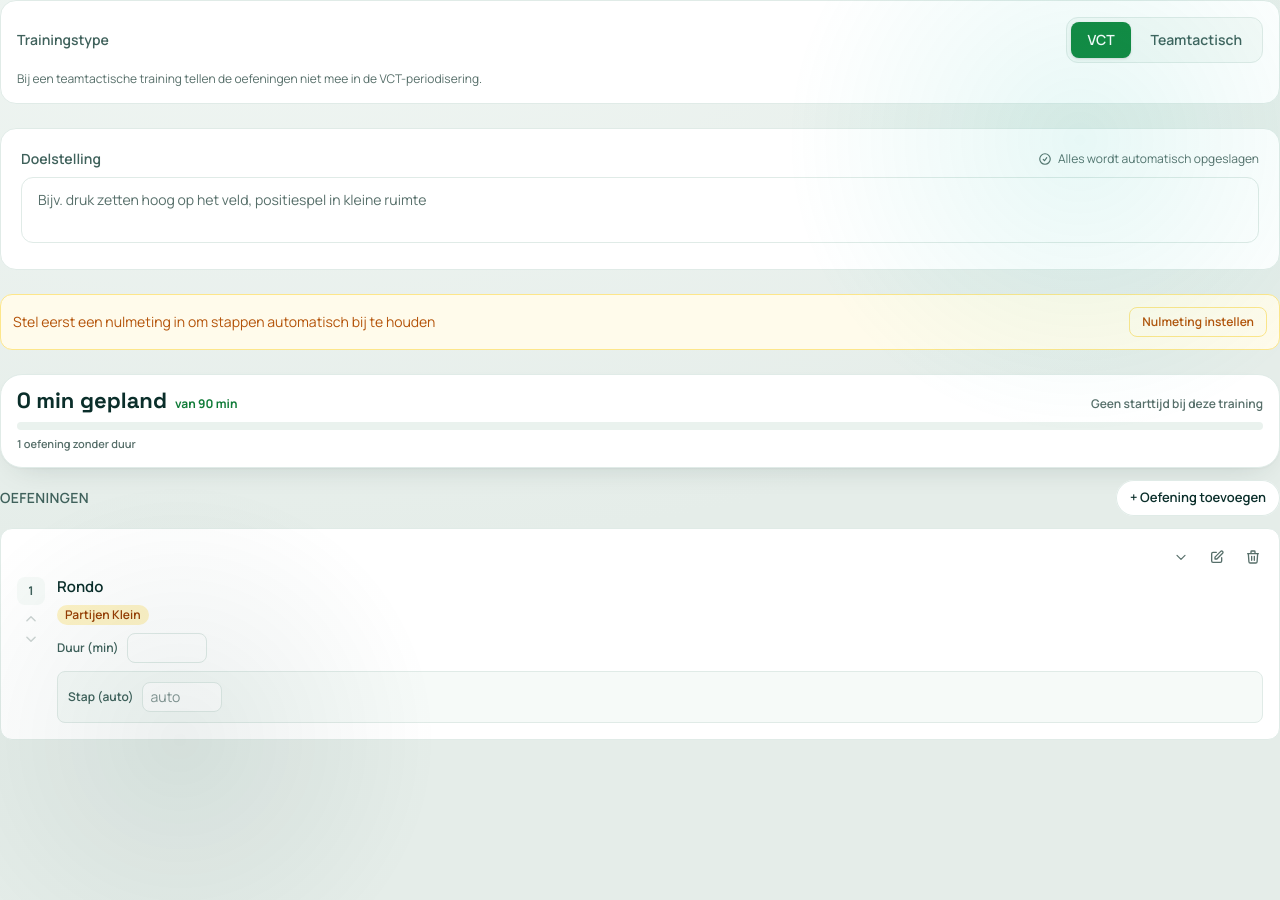
AC5 — verplicht veld leeg of ongeldige waarde: formulier blijft open, niets opgeslagen › een ongeldige waarde die de UI niet blokkeert (bovengrens neutralen < aantal neutralen) faalt op de echte serverside validatie: formulier blijft open met de mel
This screenshot has width=1280, height=900.
Click the button named "Oefening bewerken: Rondo" at (1217, 556), box [1201,540,1233,572]
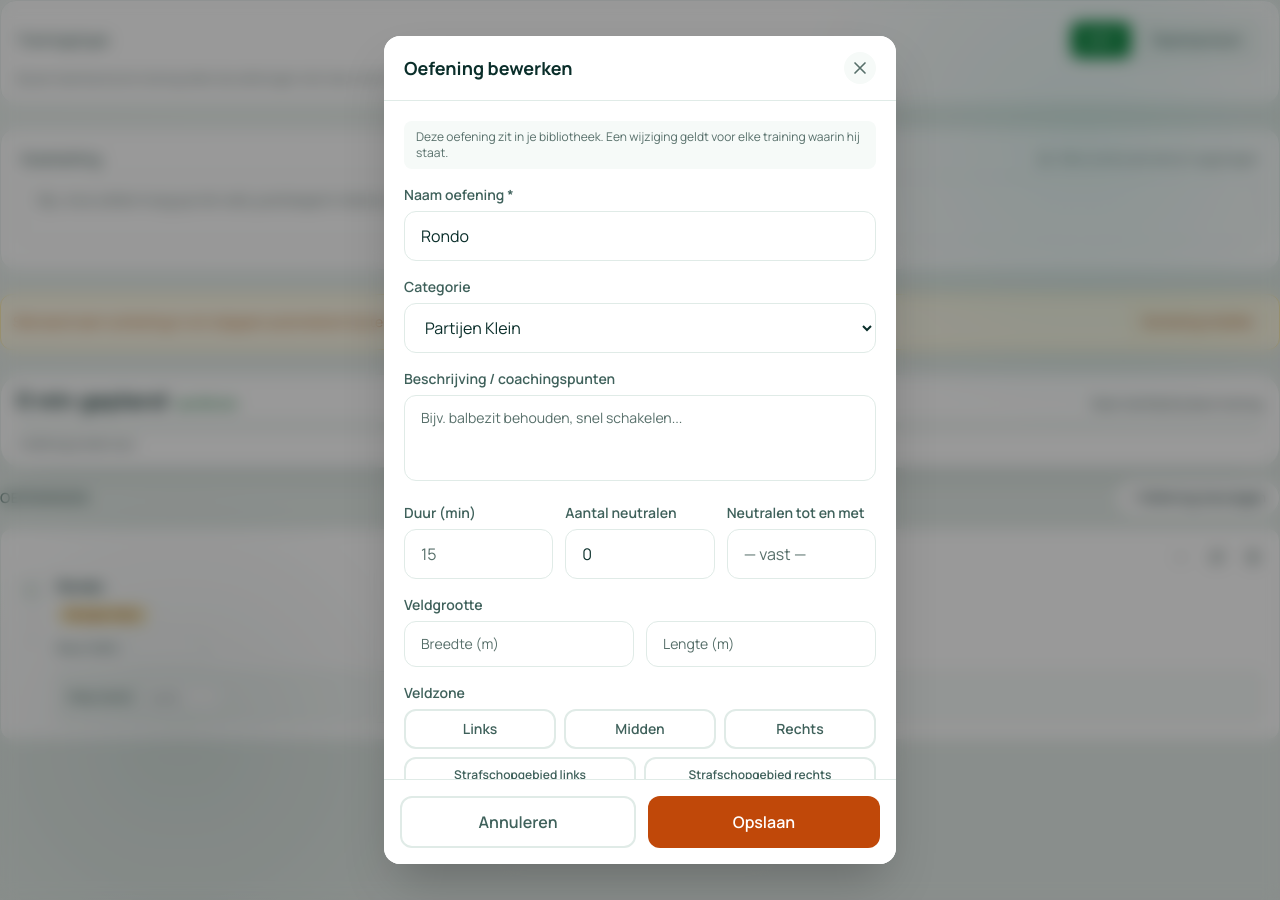
Replace the text in the number field labelled "Aantal neutralen" with "5" at (640, 554), box [565,529,715,579]
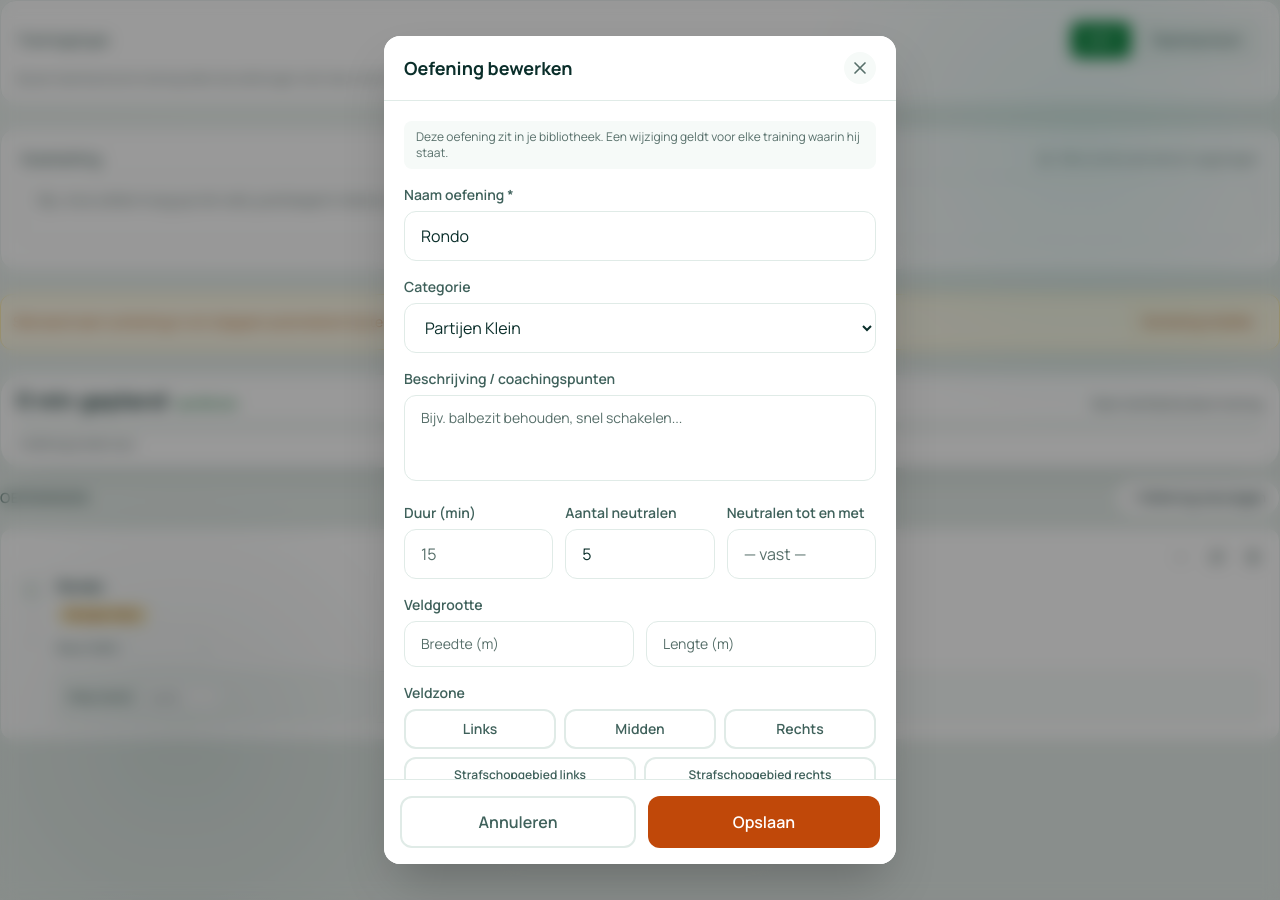
Type "2" into the number field labelled "Neutralen tot en met" at (801, 554), box [727,529,876,579]
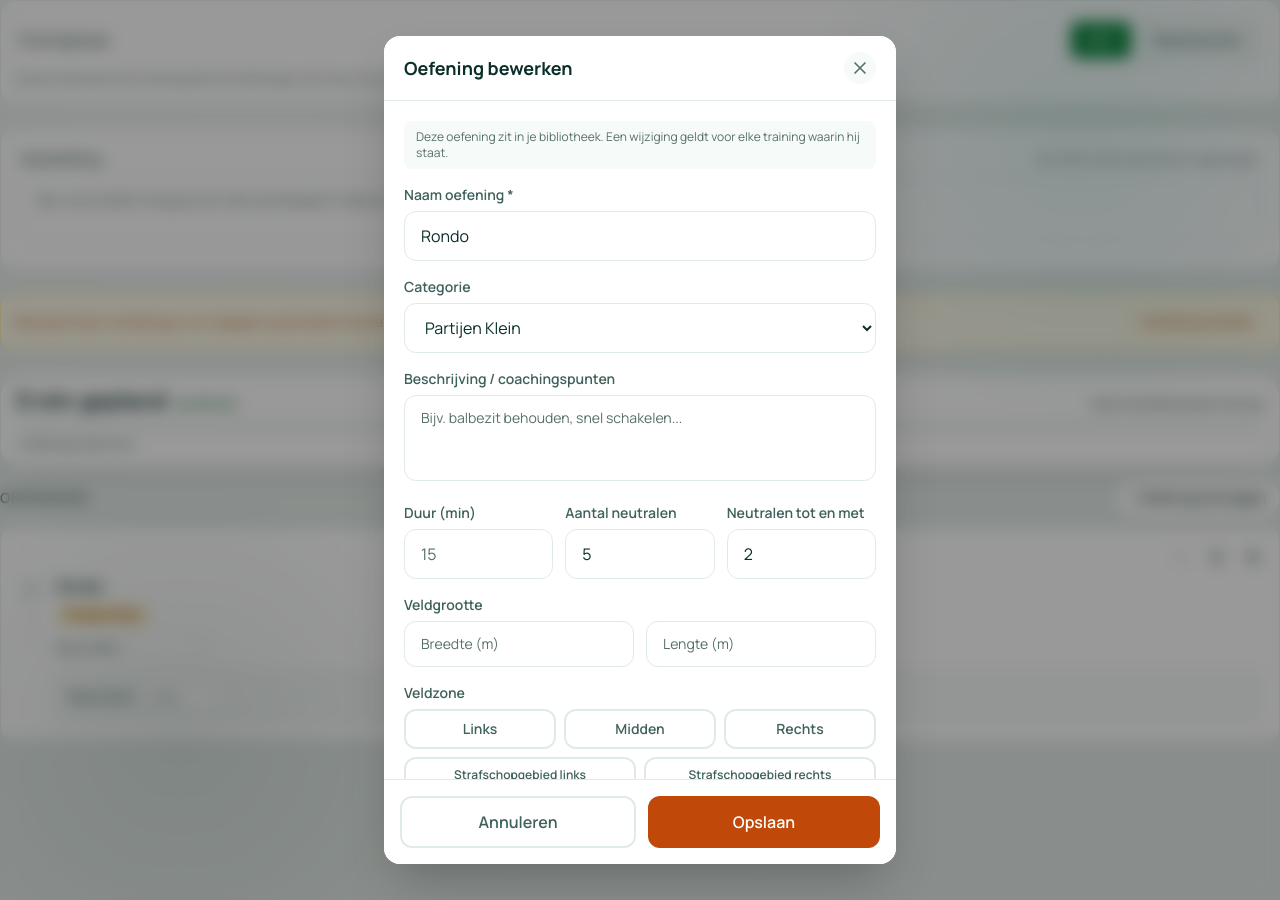
Click the button "Opslaan" at (764, 822), box [648,796,880,848]
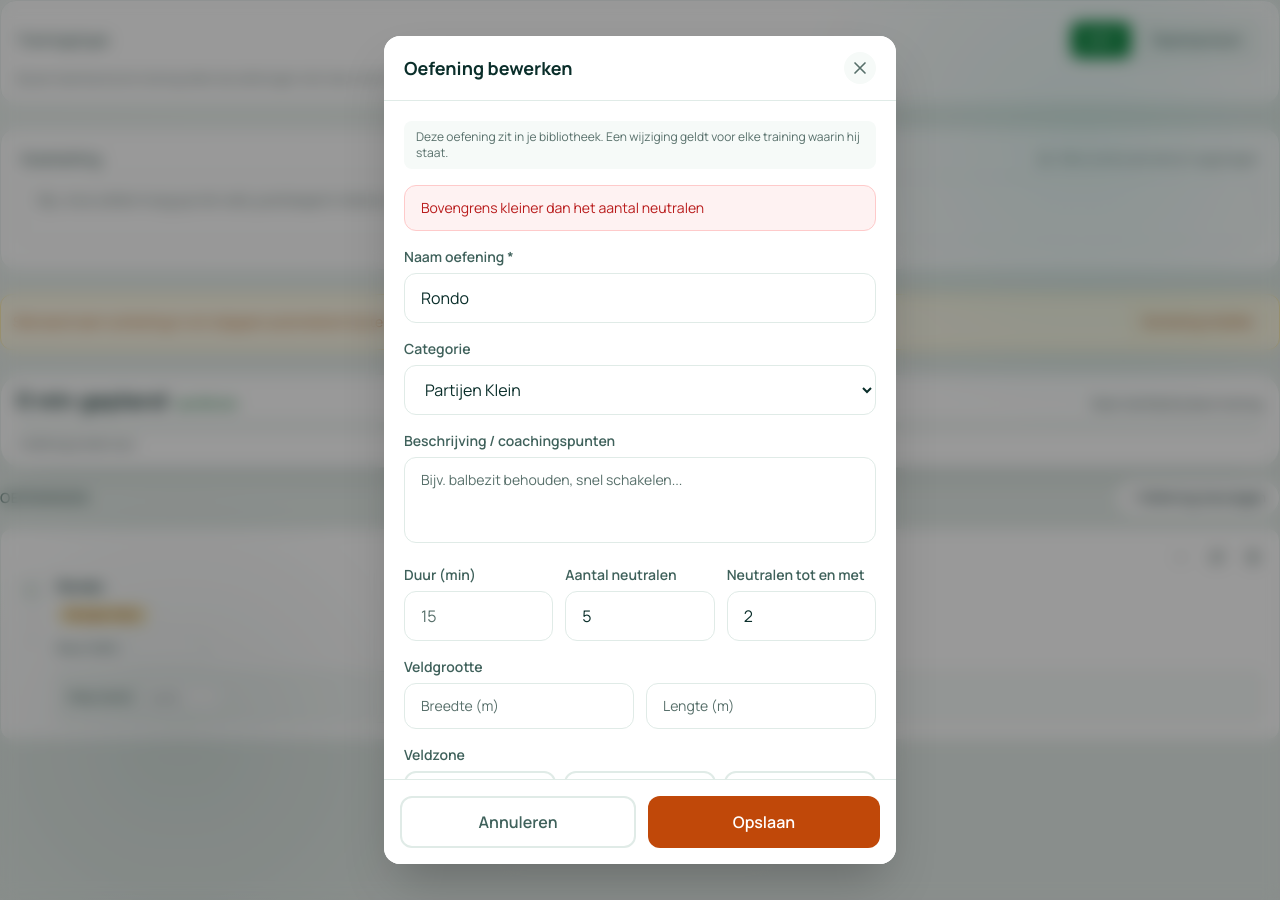
Result: the heading "Oefening bewerken" is shown at [404,54,573,82]
Result: the text "Bovengrens kleiner dan het aantal neutralen" is shown at [404,185,876,231]
